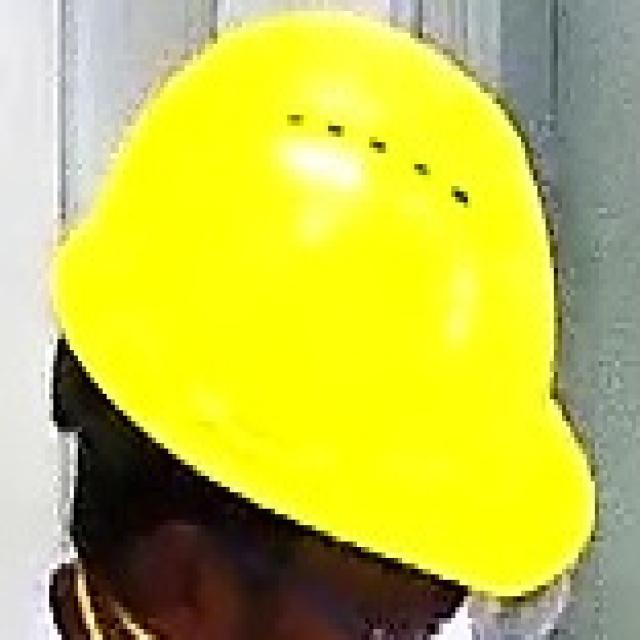yellow helmet: (53, 11, 611, 603)
